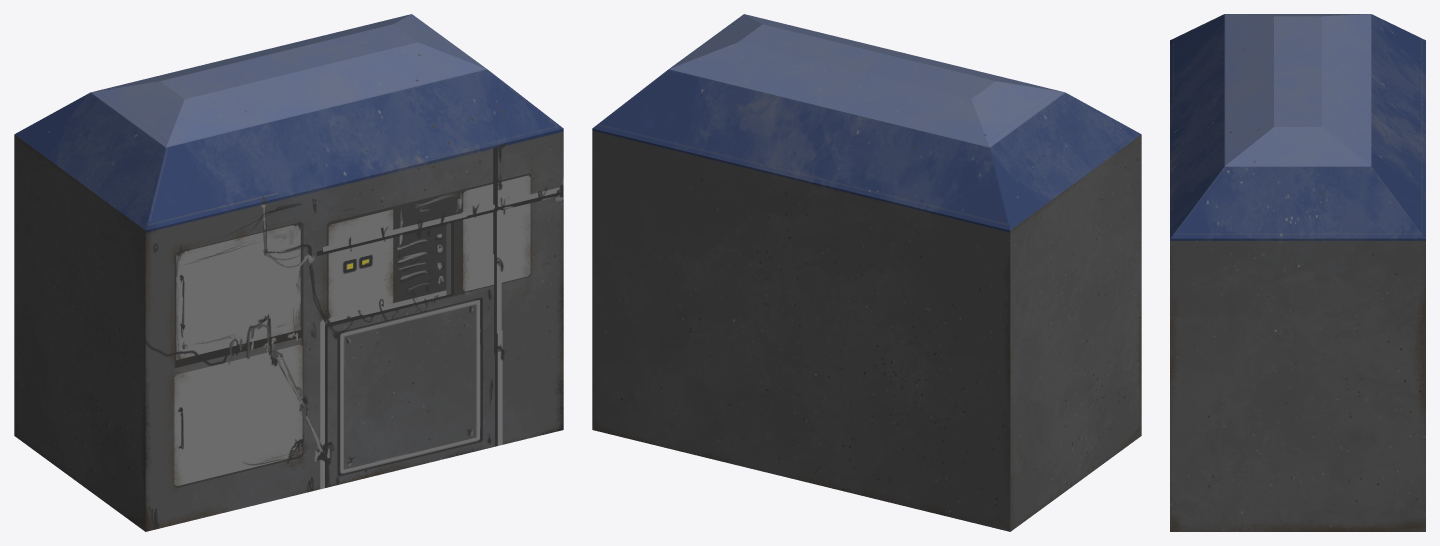
The model's file is prob roof 2.fbx.
The picture shows the model from 3 angles, left to right: view 1: azimuth 30°, elevation 25°; view 2: azimuth 150°, elevation 25°; view 3: azimuth 270°, elevation 25°; orthographic projection. The views are drawn at different scales.
Parts seen in each view (by area): view 1: Cube; view 2: Cube; view 3: Cube.
Boxes of the visible parts, x1,y1,x2,y2 form: Cube: (14, 14, 563, 531); Cube: (592, 14, 1141, 531); Cube: (1170, 14, 1425, 531).
Bounding box in the file's own units: 395 × 335 × 215.
1 material, 1 textured.
